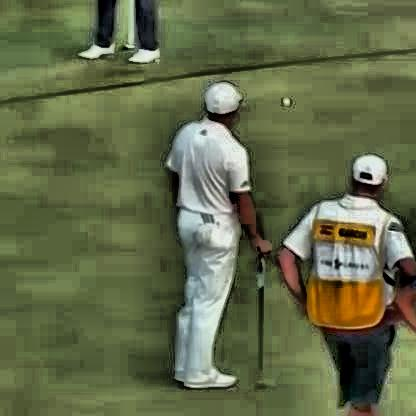golfball: (277, 94, 287, 104)
